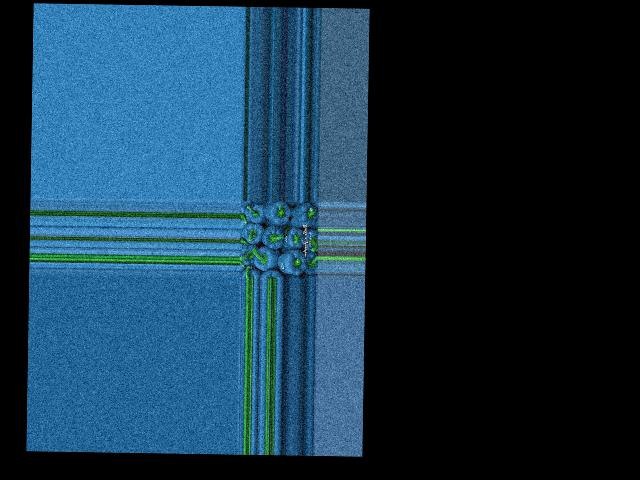bell_pepper: (301, 250, 318, 277)
